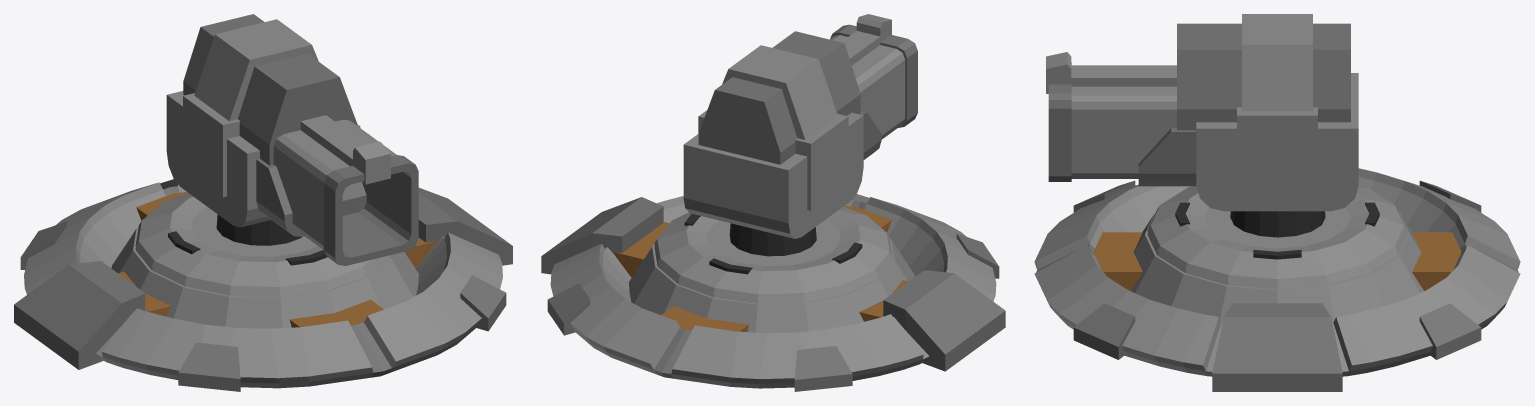
The model's file is Enemy_Turret.glb.
The picture shows the model from 3 angles, left to right: view 1: azimuth 30°, elevation 25°; view 2: azimuth 150°, elevation 25°; view 3: azimuth 270°, elevation 25°; orthographic projection. The views are drawn at different scales.
Parts seen in each view (by area): view 1: Turret_Cannon_Base, Turret_Cannon_Top; view 2: Turret_Cannon_Base, Turret_Cannon_Top; view 3: Turret_Cannon_Base, Turret_Cannon_Top.
Part boxes in pixels (<box>): Turret_Cannon_Base: <box>14,179,512,391</box>; Turret_Cannon_Top: <box>166,14,418,265</box>; Turret_Cannon_Base: <box>541,194,1005,391</box>; Turret_Cannon_Top: <box>683,14,917,256</box>; Turret_Cannon_Base: <box>1034,168,1520,391</box>; Turret_Cannon_Top: <box>1046,14,1358,237</box>.
Bounding box in the file's own units: 1.16 × 0.6472 × 1.11.
